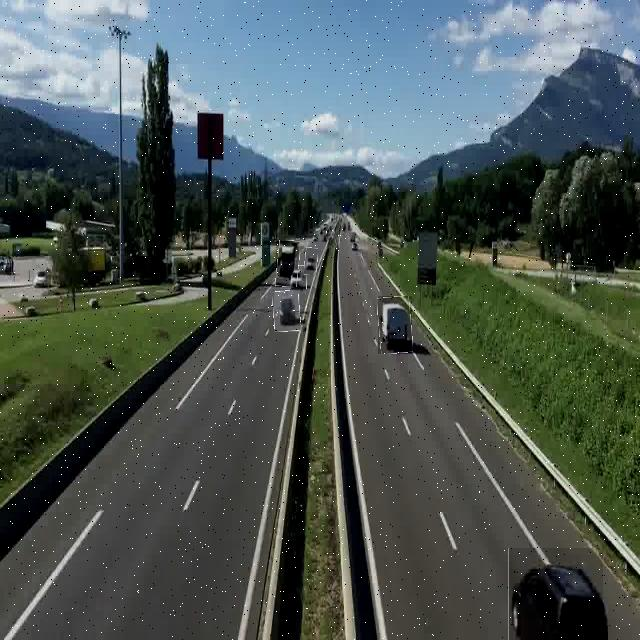Car: (508, 548, 603, 640), (378, 296, 412, 354), (274, 290, 300, 332), (276, 241, 299, 287), (291, 265, 307, 294), (304, 248, 318, 275)
